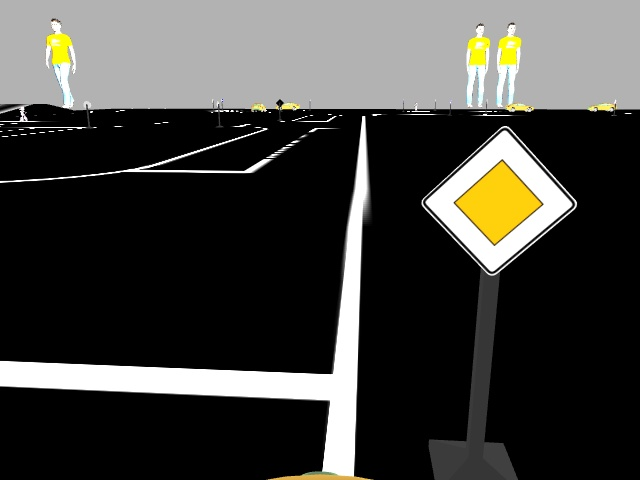Priority: (427, 121, 573, 271)
